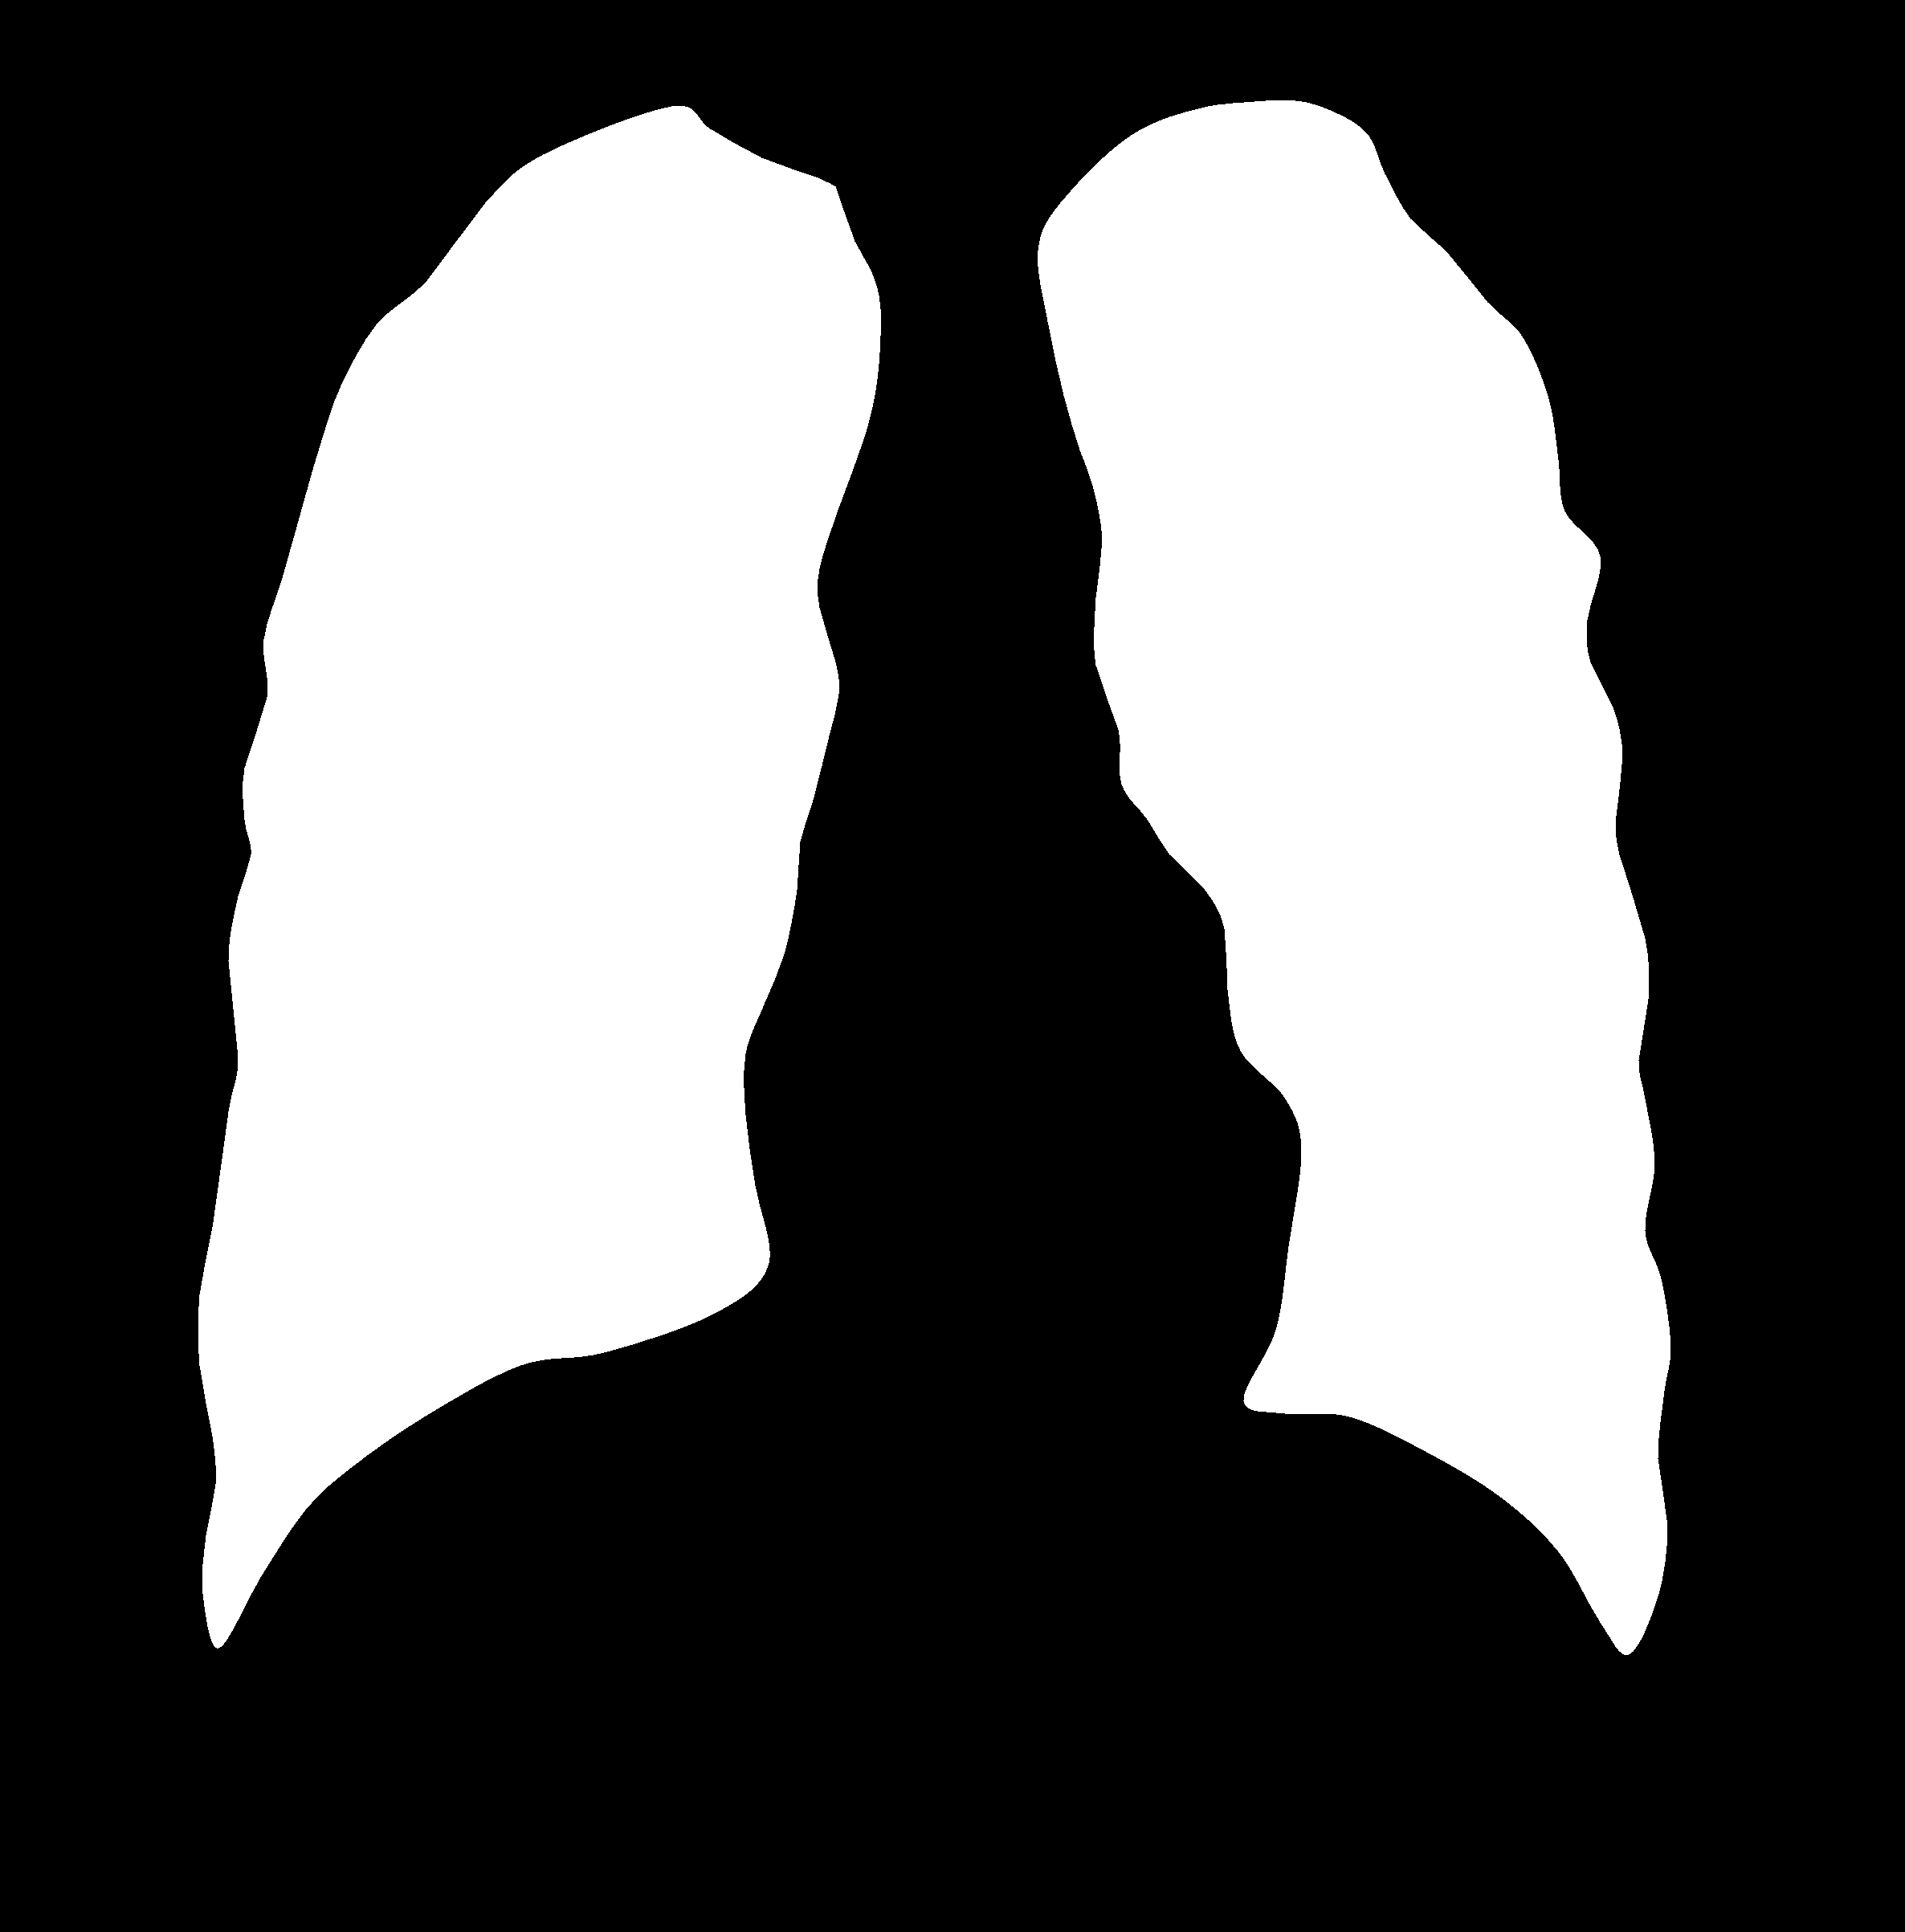heart: (743, 900, 1308, 1442)
left_lung: (201, 106, 881, 1650)
right_lung: (1038, 101, 1671, 1662)
